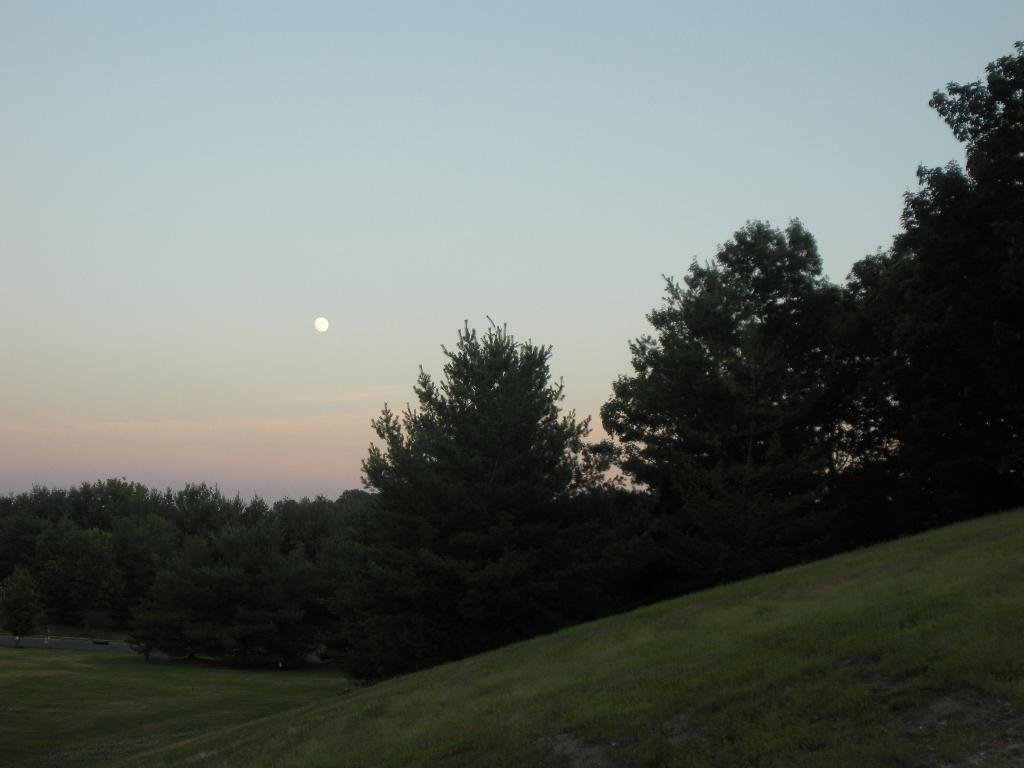Tree: (594, 214, 897, 611), (846, 40, 1023, 538), (350, 299, 600, 625), (0, 478, 376, 670)
